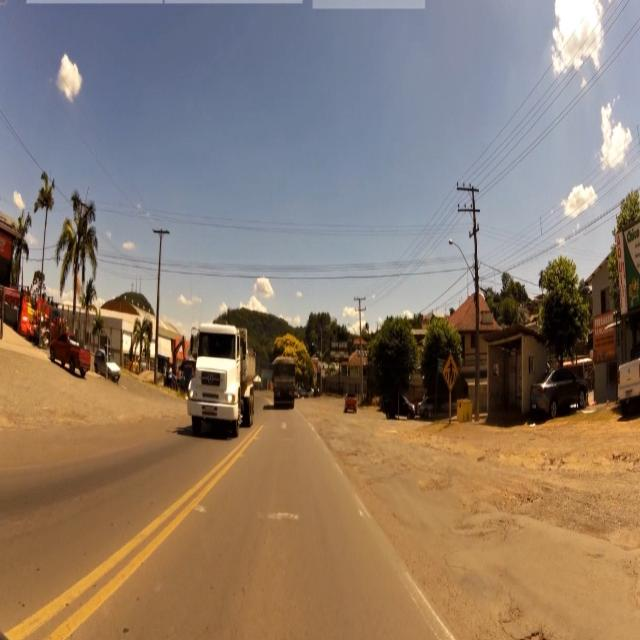A-32b: (443, 354, 459, 391)
